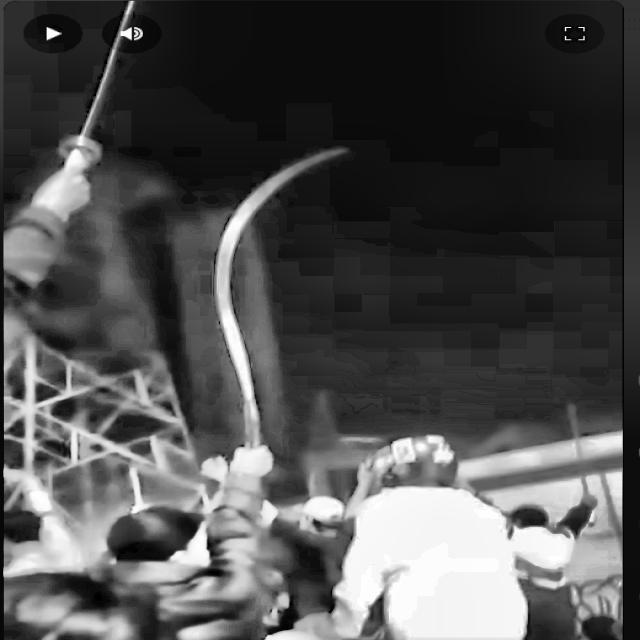celurit: (182, 135, 383, 470)
robbery: (1, 58, 621, 640)
